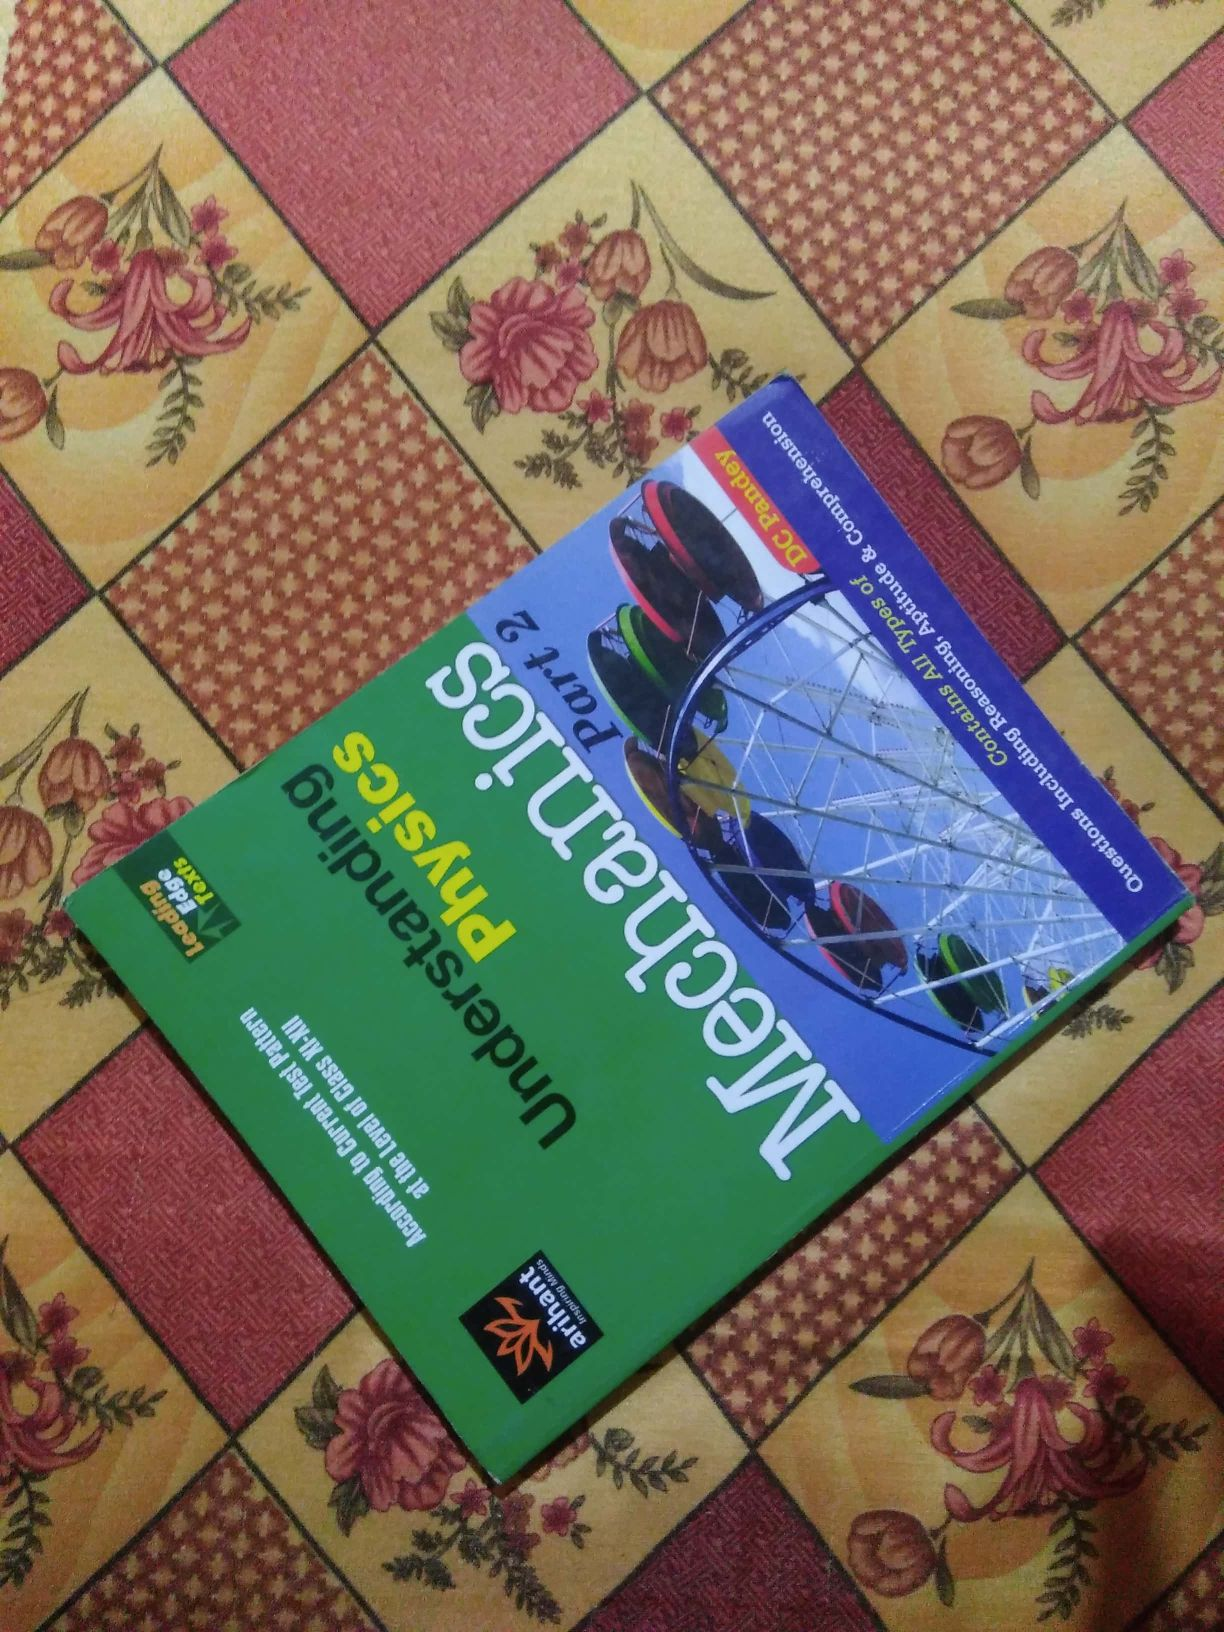mechanics: (66, 397, 1122, 1443)
